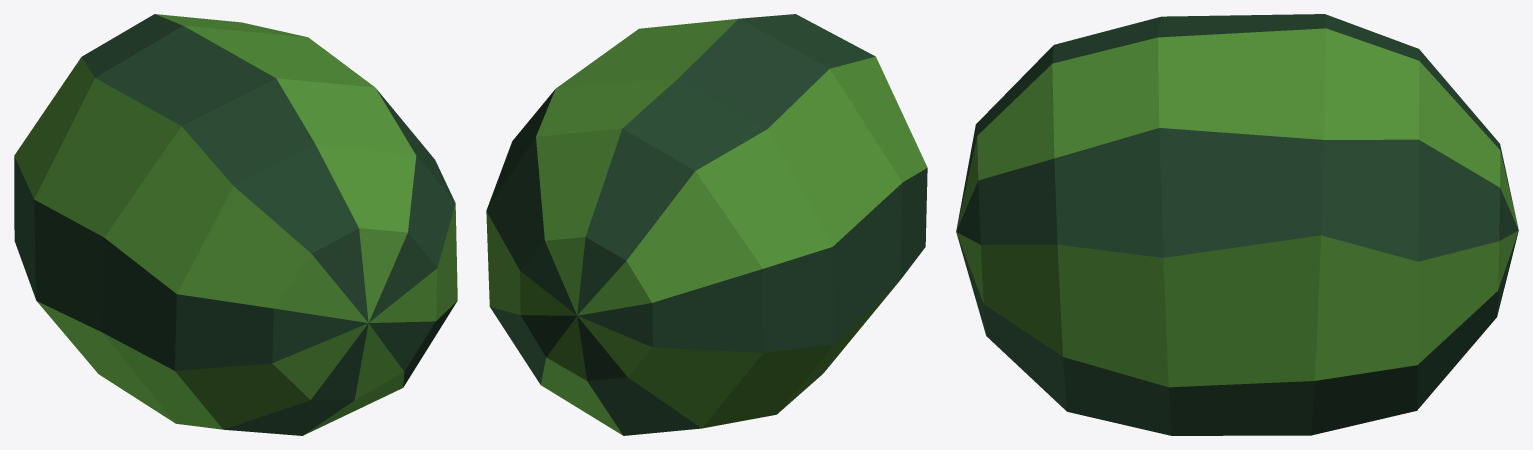
File: food_melon.fbx
The picture shows the model from 3 angles, left to right: view 1: azimuth 30°, elevation 25°; view 2: azimuth 150°, elevation 25°; view 3: azimuth 270°, elevation 25°; orthographic projection. The views are drawn at different scales.
Visible parts, largest first — view 1: food_melon; view 2: food_melon; view 3: food_melon.
Boxes of the visible parts, x1=… form: food_melon: x1=14, y1=14, x2=457, y2=435; food_melon: x1=486, y1=14, x2=927, y2=435; food_melon: x1=956, y1=14, x2=1518, y2=435.
Size of the model in its own units: 149 by 153 by 200.
